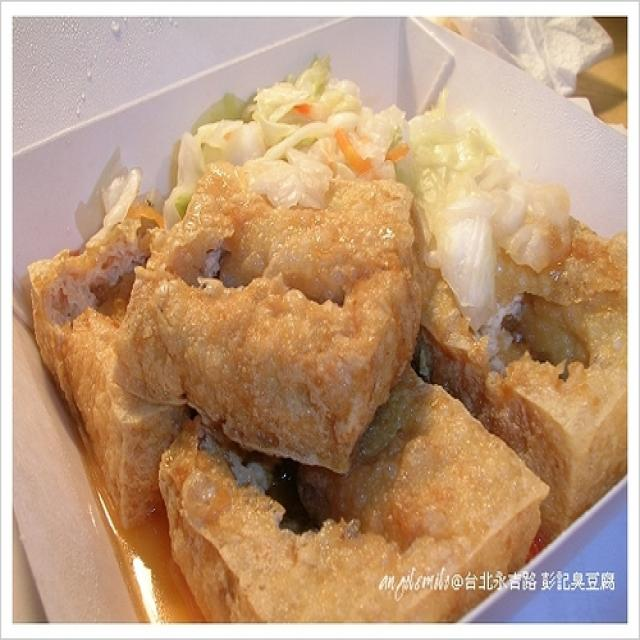豆腐料理: (22, 42, 627, 620)
